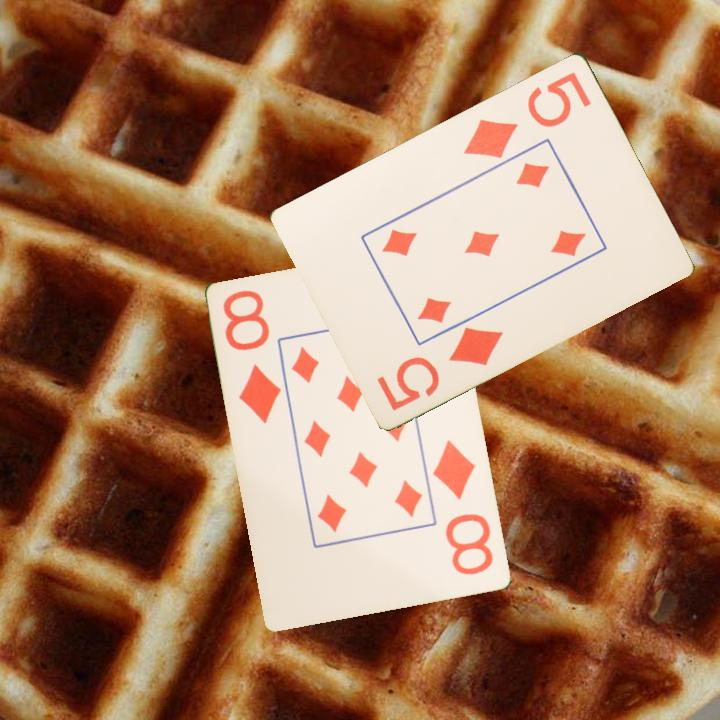5d: (459, 67, 595, 161), (373, 322, 506, 413)
8d: (430, 436, 497, 579), (220, 287, 285, 427)
